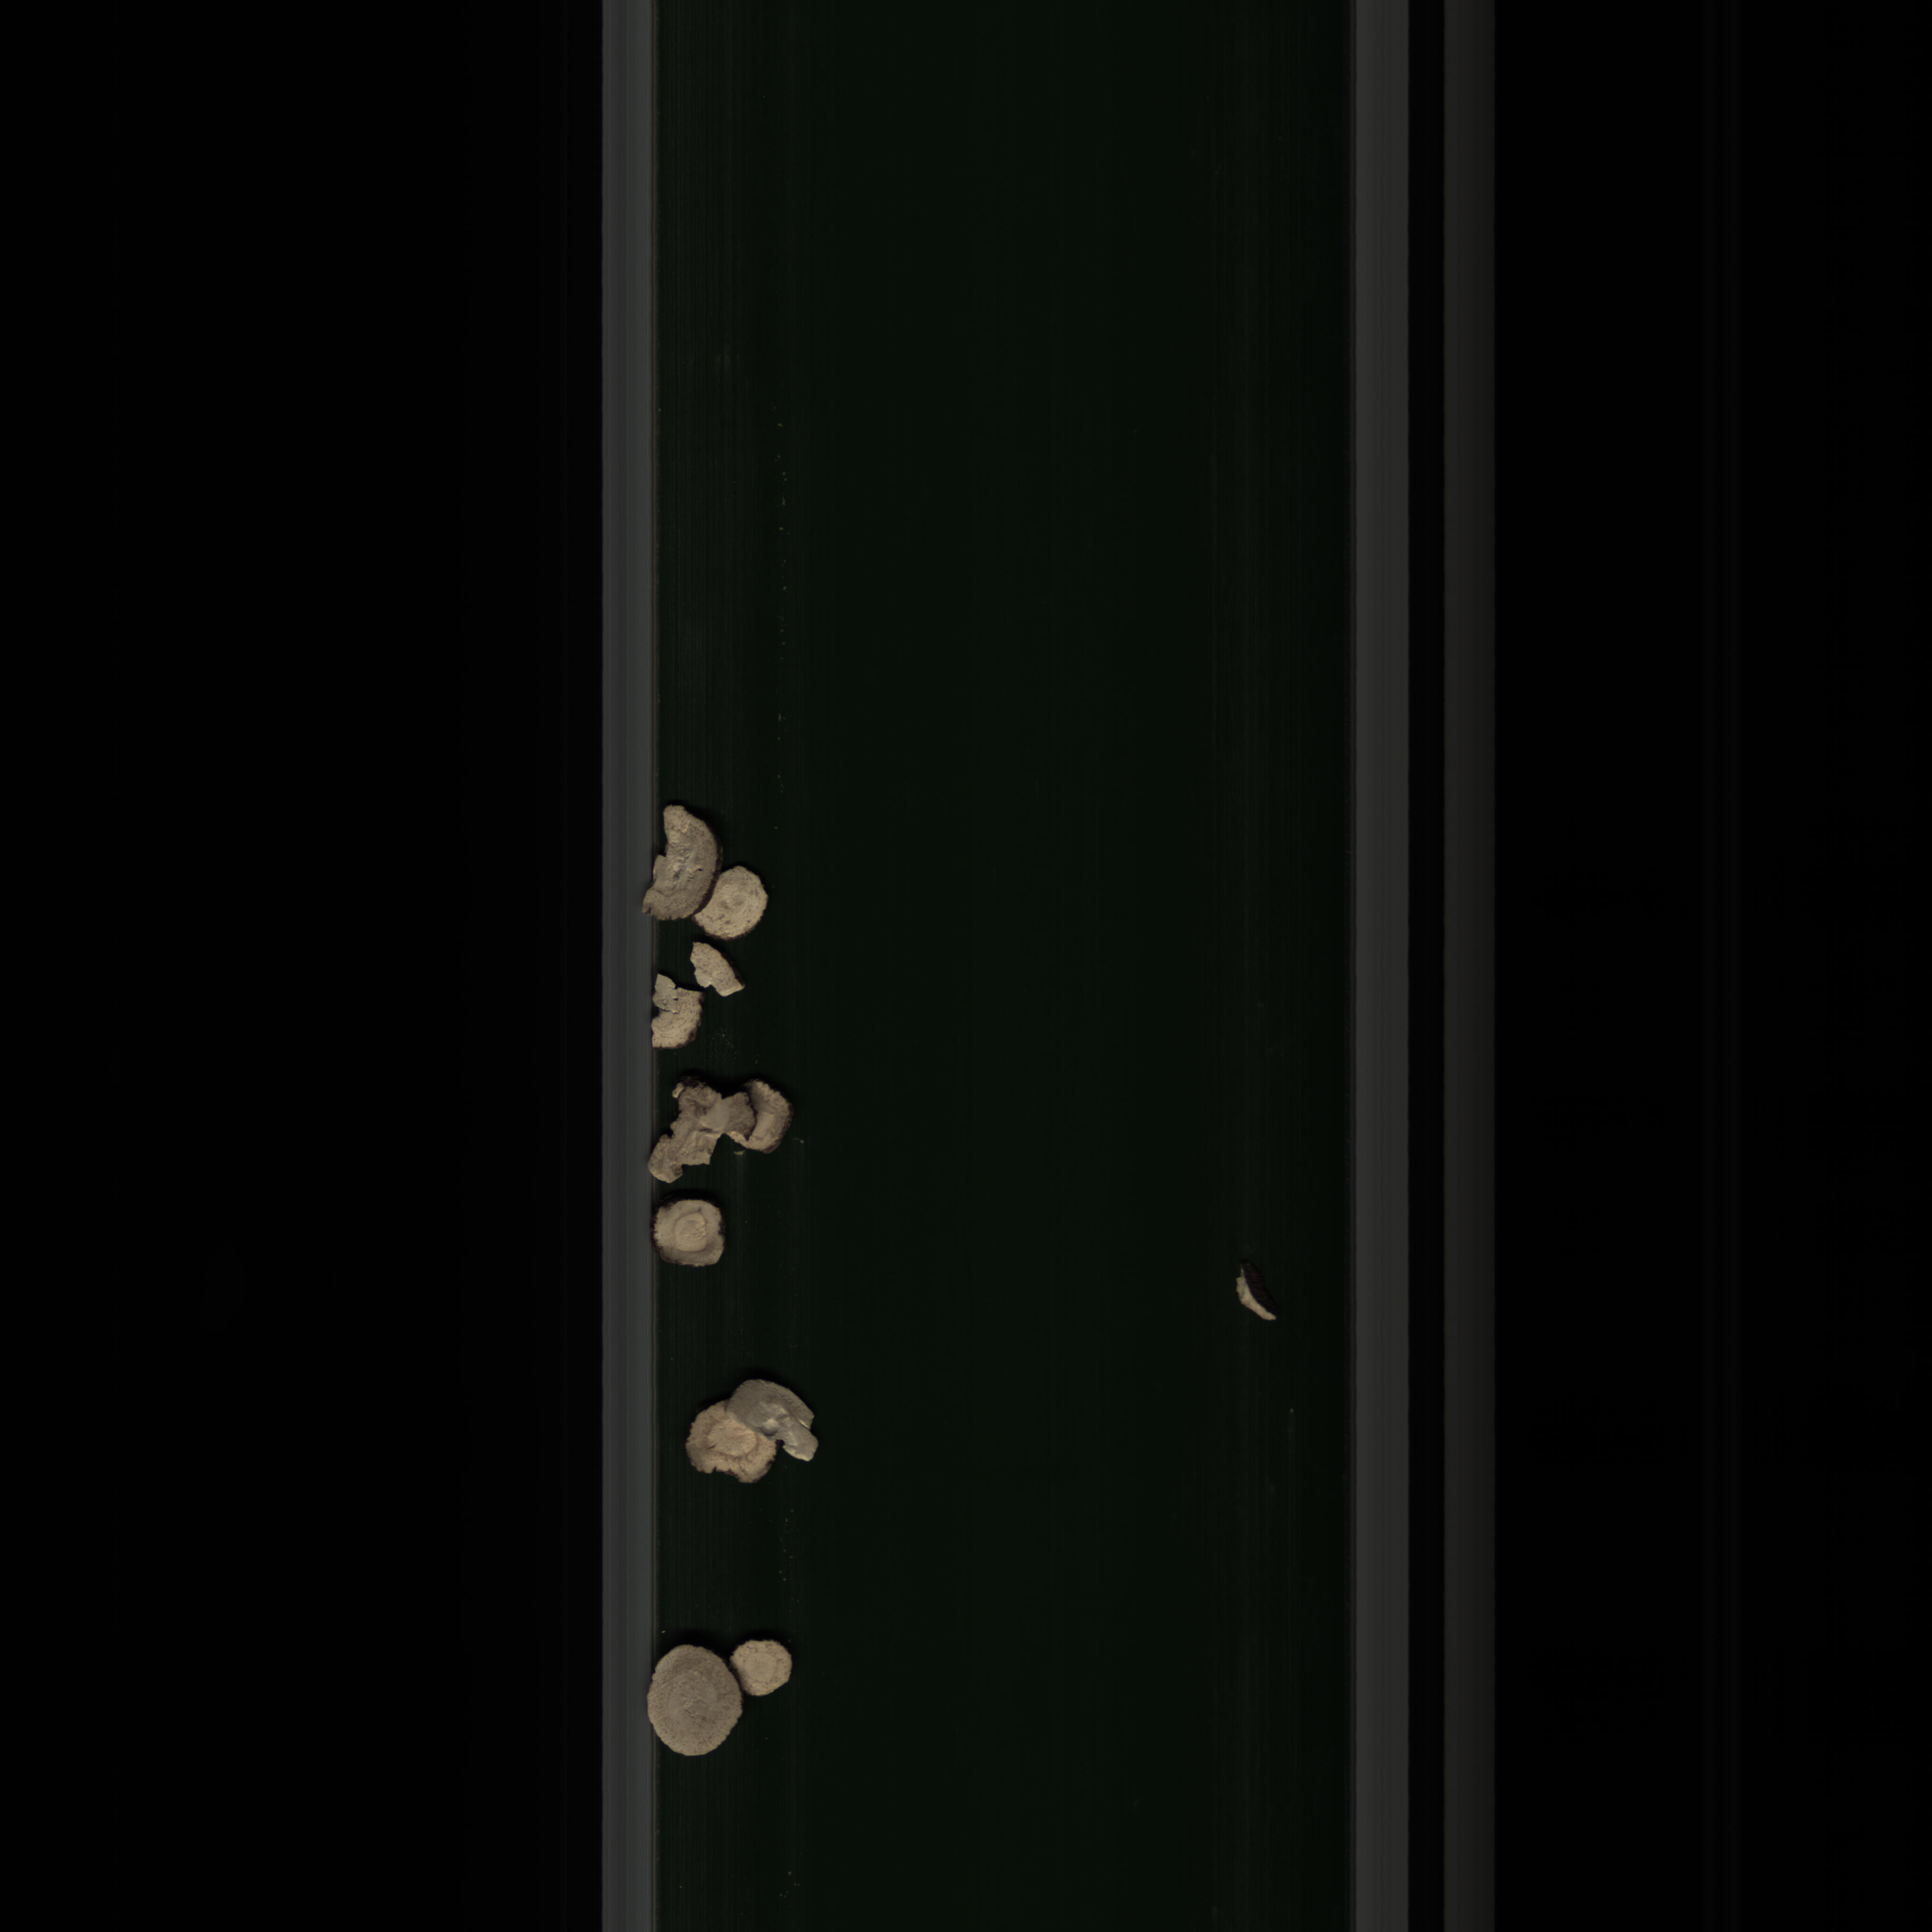debris: (648, 1070, 824, 1192), (724, 1361, 828, 1468), (635, 961, 718, 1062), (649, 794, 711, 925), (702, 858, 768, 954)
